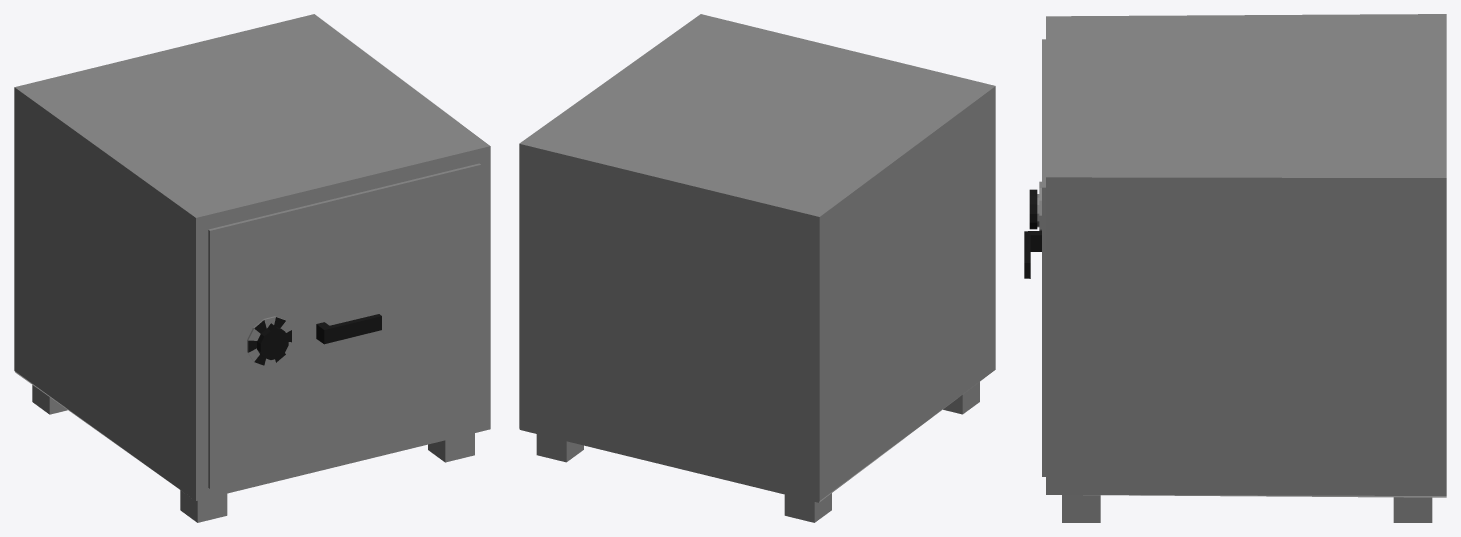
Rendered from Safe.glb.
3 views of the same model, side by side, from view 1: azimuth 30°, elevation 25°; view 2: azimuth 150°, elevation 25°; view 3: azimuth 270°, elevation 25° (orthographic). The views are drawn at different scales.
Visible parts, largest first — view 1: Safe; view 2: Safe; view 3: Safe.
Boxes of the visible parts, box(x1,y1,x2,y2) form: Safe: box(14, 14, 490, 522); Safe: box(519, 14, 995, 522); Safe: box(1024, 14, 1446, 522).
Bounding box in the file's own units: 0.2439 × 0.2432 × 0.2654.
1 material, 1 textured.
